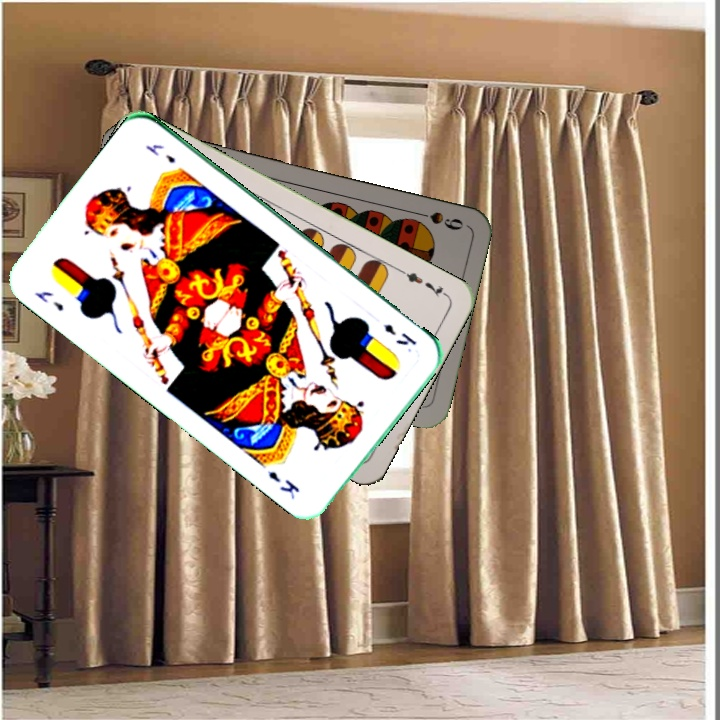E7: (396, 265, 450, 299)
EK: (379, 319, 419, 348), (31, 287, 66, 314)
S9: (409, 207, 466, 233)
